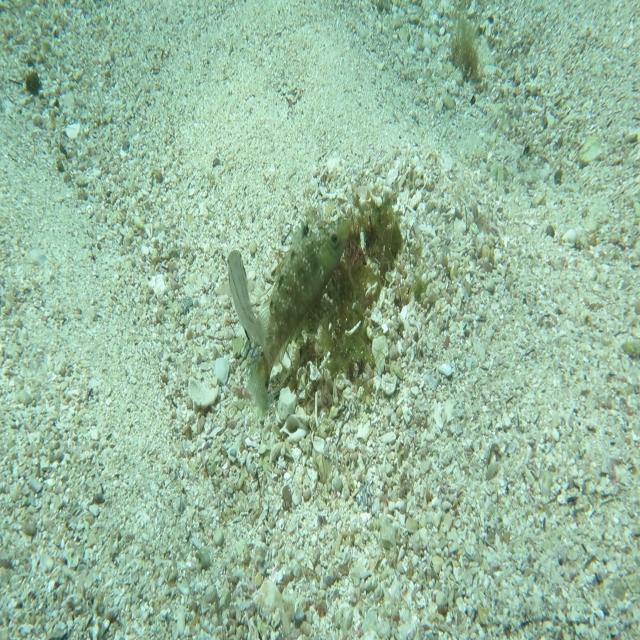FAN: (249, 214, 351, 419)
core_nest: (313, 197, 372, 255)
female: (226, 249, 280, 360)
nest: (271, 180, 416, 421)
